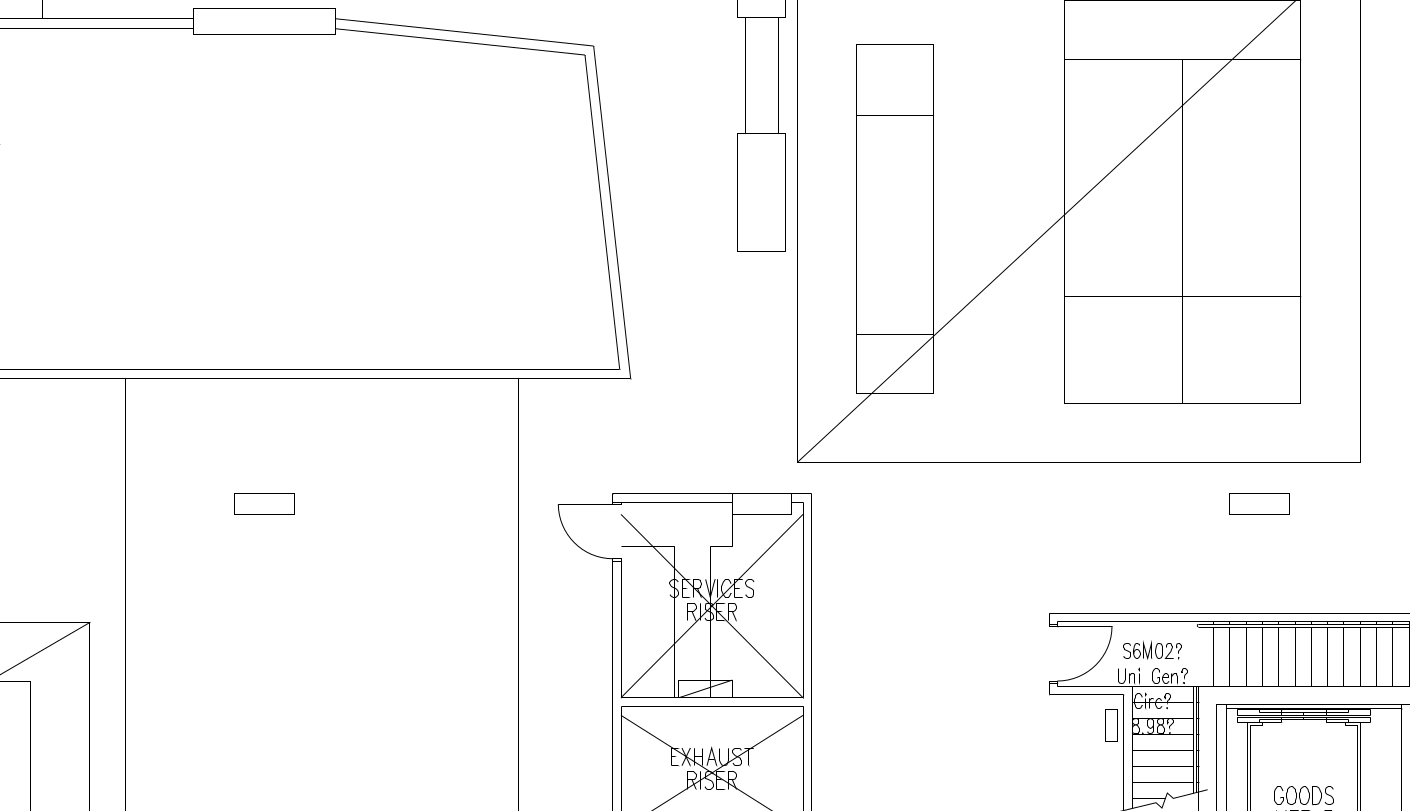door: (545, 495, 608, 565), (1054, 620, 1116, 684)
